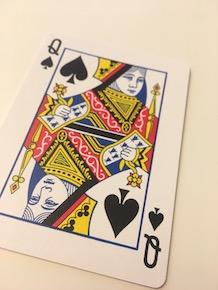QueenOfSpades: (1, 20, 194, 288)
